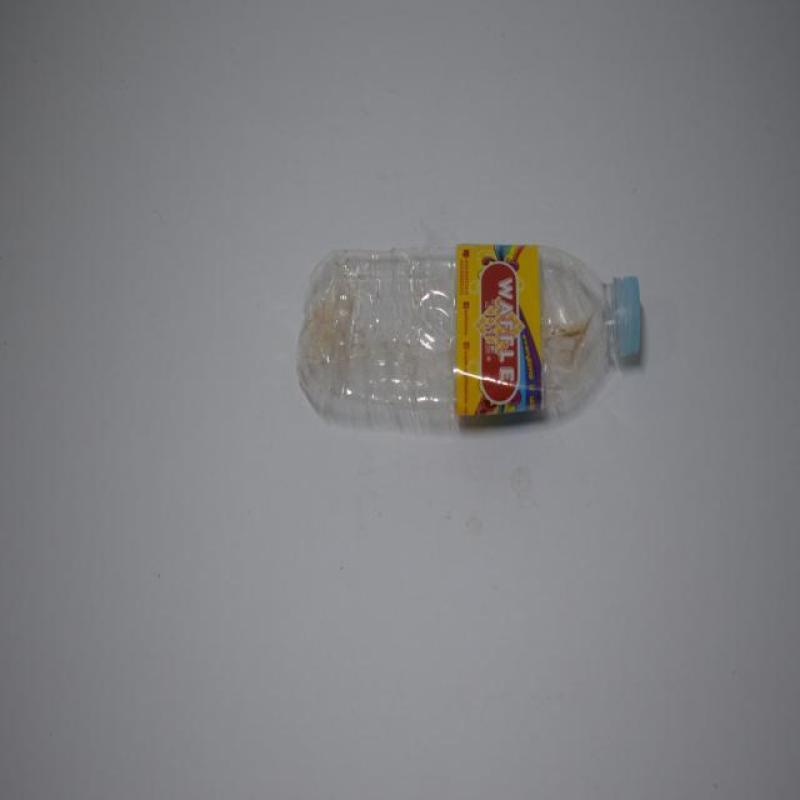botella: (295, 245, 645, 423)
